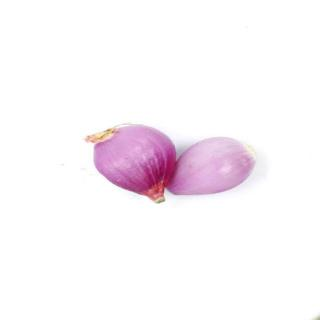Bawang Merah: (83, 119, 179, 211), (159, 133, 261, 201)
